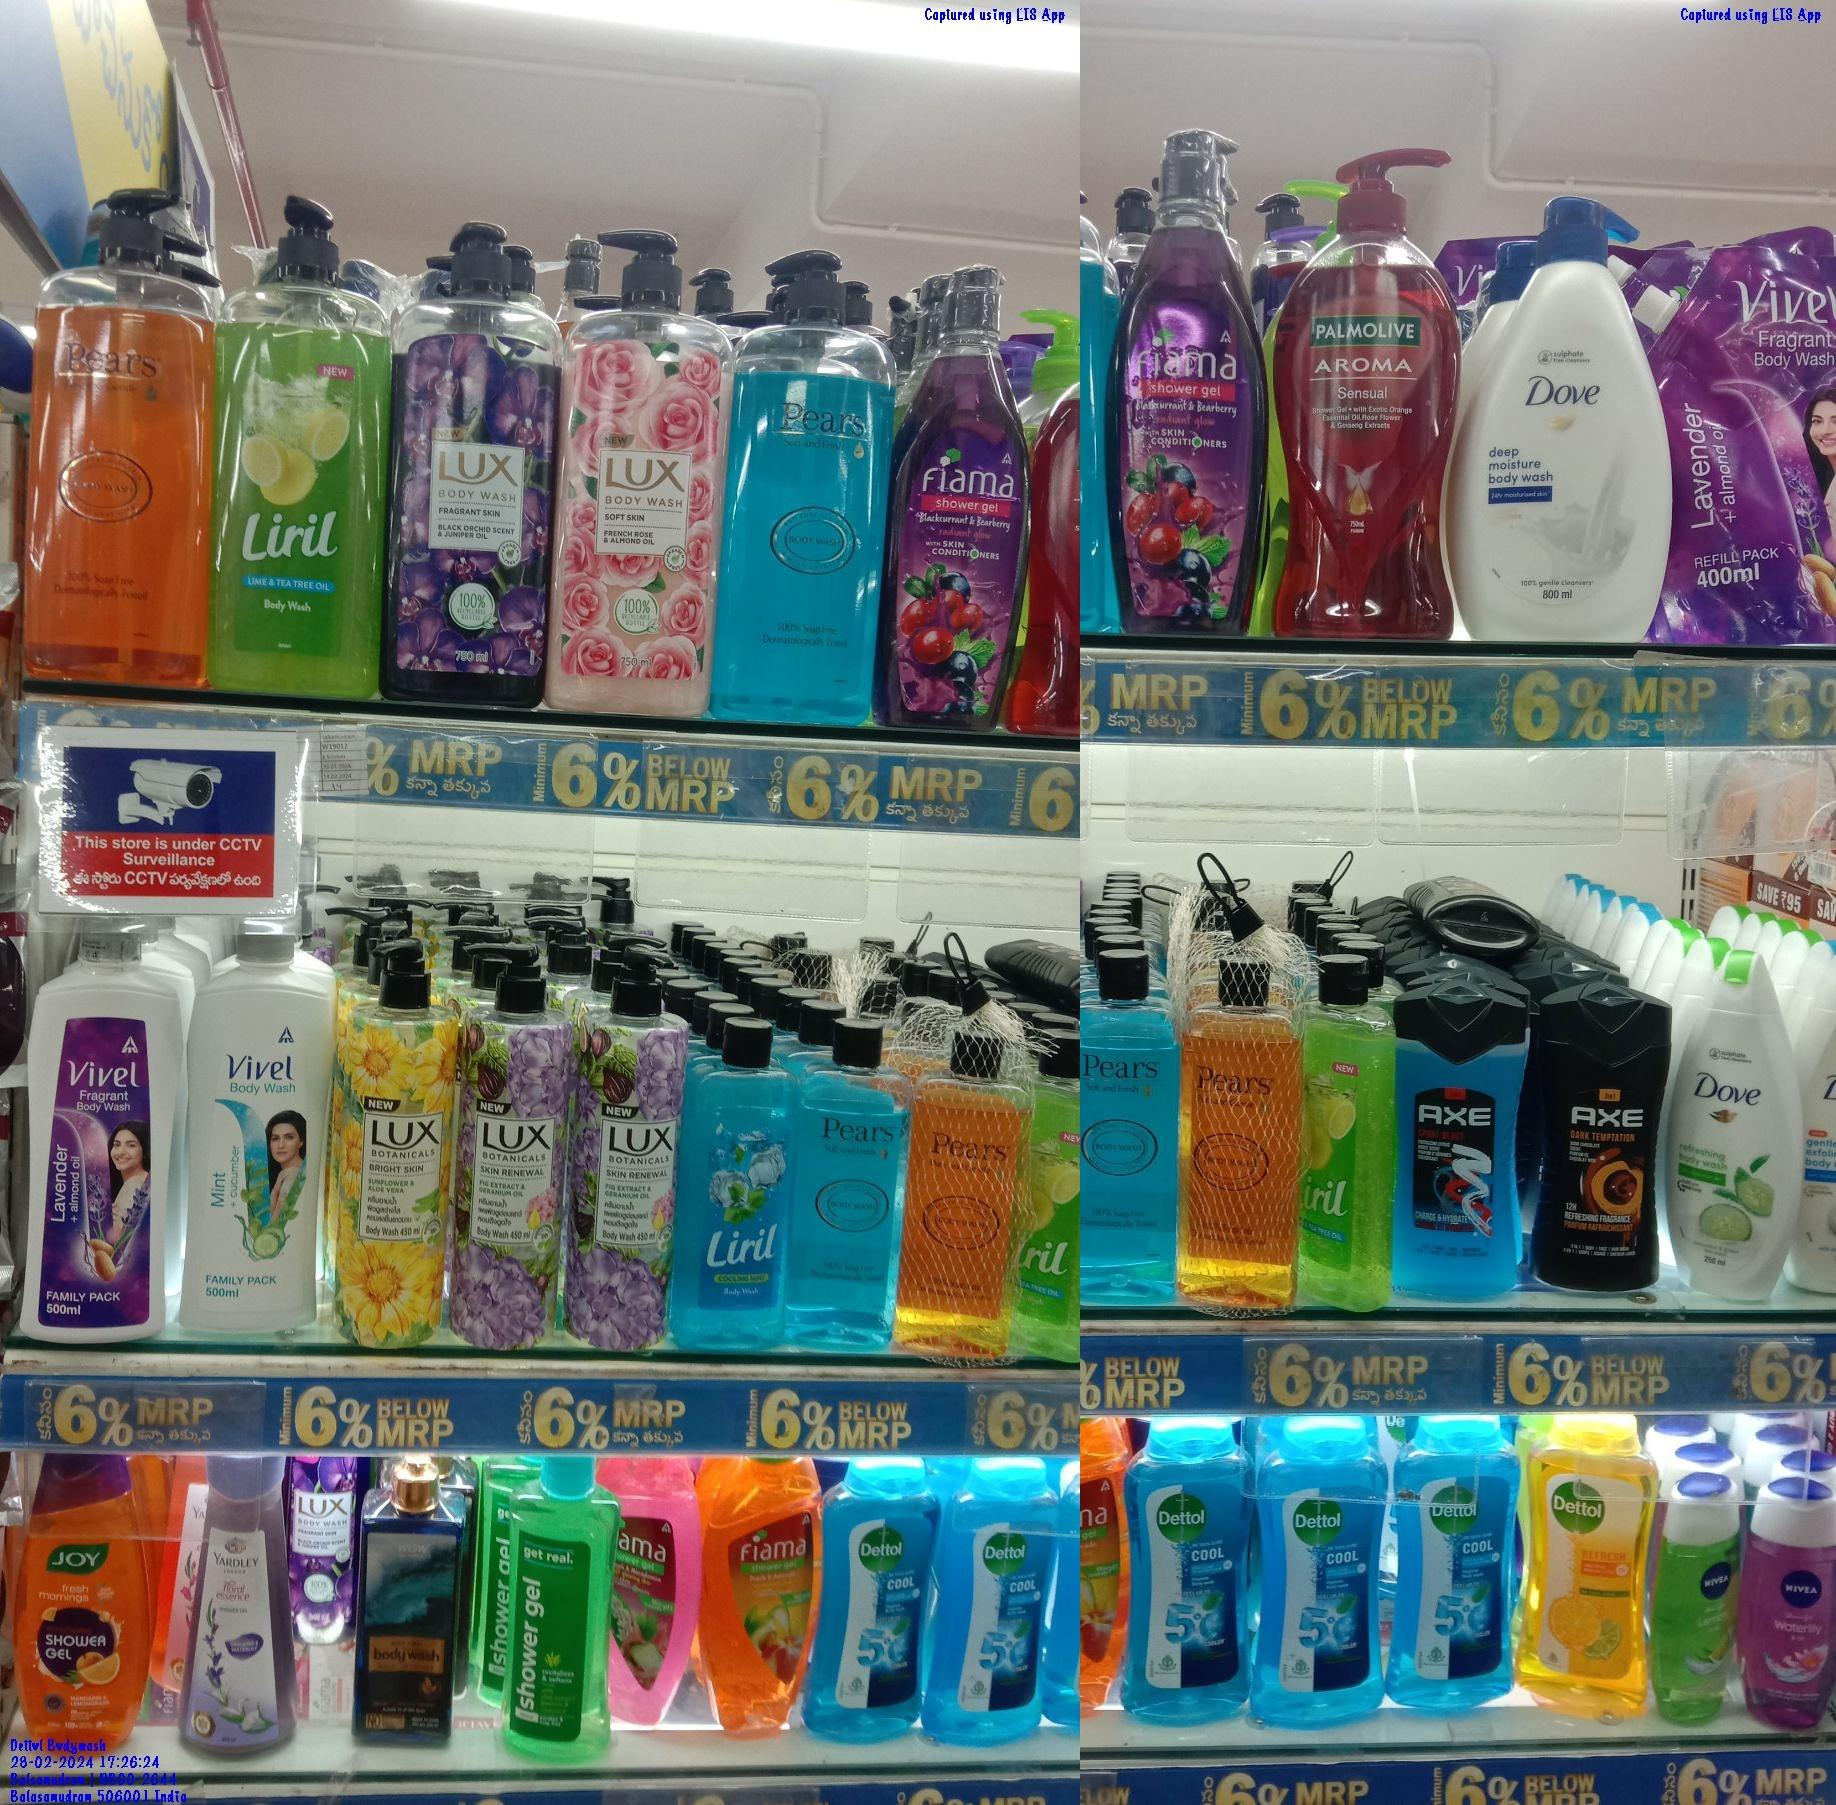Dettol_Bodywash_Cool: (1254, 1417, 1385, 1734), (1129, 1422, 1249, 1734), (1395, 1413, 1510, 1726), (818, 1458, 929, 1749), (935, 1453, 1043, 1750)
Dettol_Bodywash_Refresh: (1517, 1402, 1653, 1729)
Dove_Refreshing_Body_Wash_250ML: (1664, 934, 1796, 1326)
Fiama_Shower_Gel_Patchouli_and_Macadamia_250ML: (598, 1446, 692, 1732)
Fiama_Shower_Gel_Peach_and_Avocado_250ML: (707, 1446, 811, 1754)
Joy_Shower_Gel_Mandarin_and_Lemongrass_250ML: (17, 1453, 152, 1770)
Liril_Cooling_Mint_Body_Wash_250ML: (679, 1017, 782, 1359)
Liril_Lime_and_Tea_Tree_Oil_Body_Wash_250ML: (1304, 959, 1391, 1312)
Pears_Pure_Glycerin_and_Mint_Extracts_Body_Wash_250ML: (788, 1005, 904, 1354), (1074, 944, 1177, 1309)
